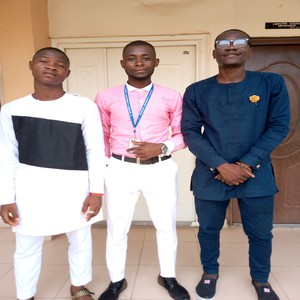Fulokoja_male_student: (2, 49, 99, 299), (185, 34, 274, 300), (99, 41, 184, 300)
